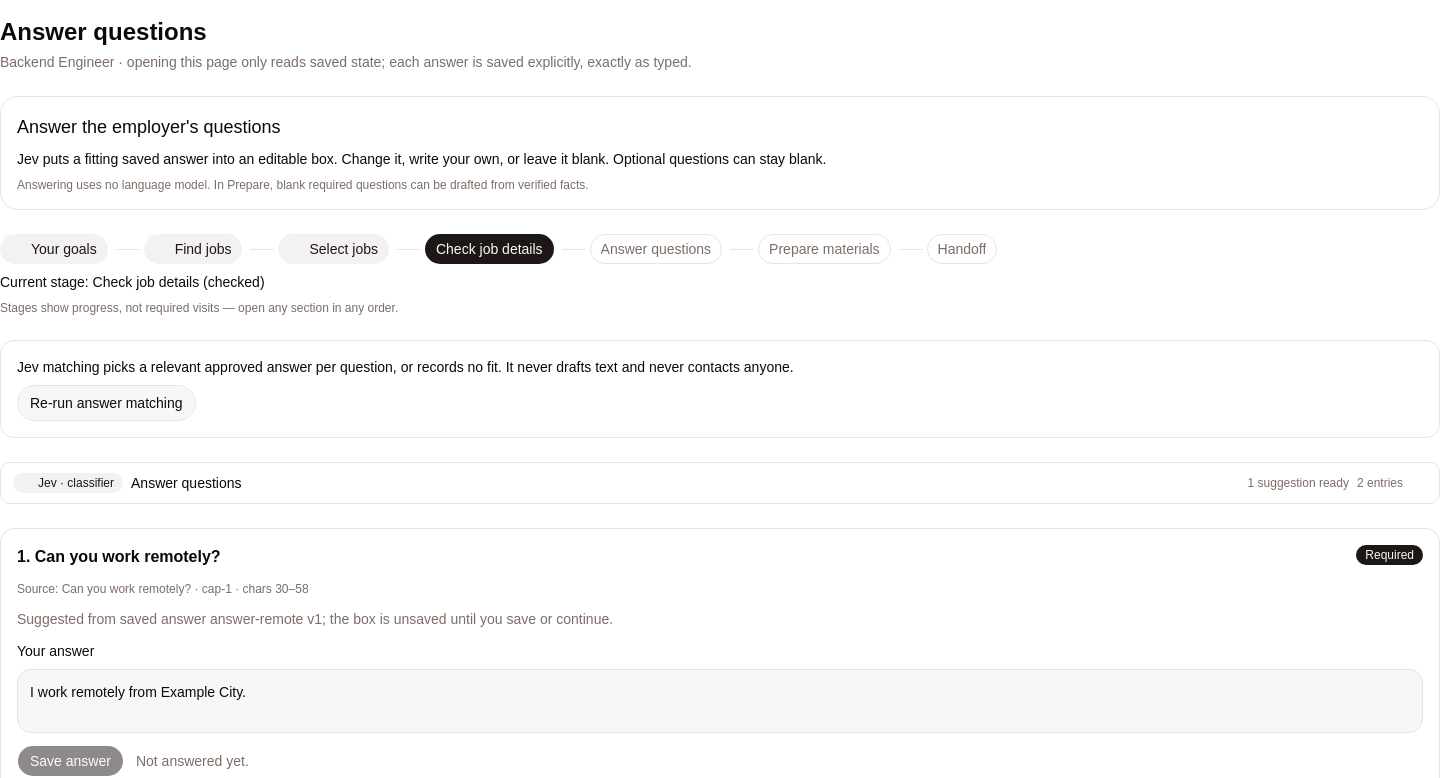
answers page saves › saves a required blank with an explicit draft request
Clear the text box showing "I work remotely from Example City.": coordinates (720, 701) [17,669,1423,733]
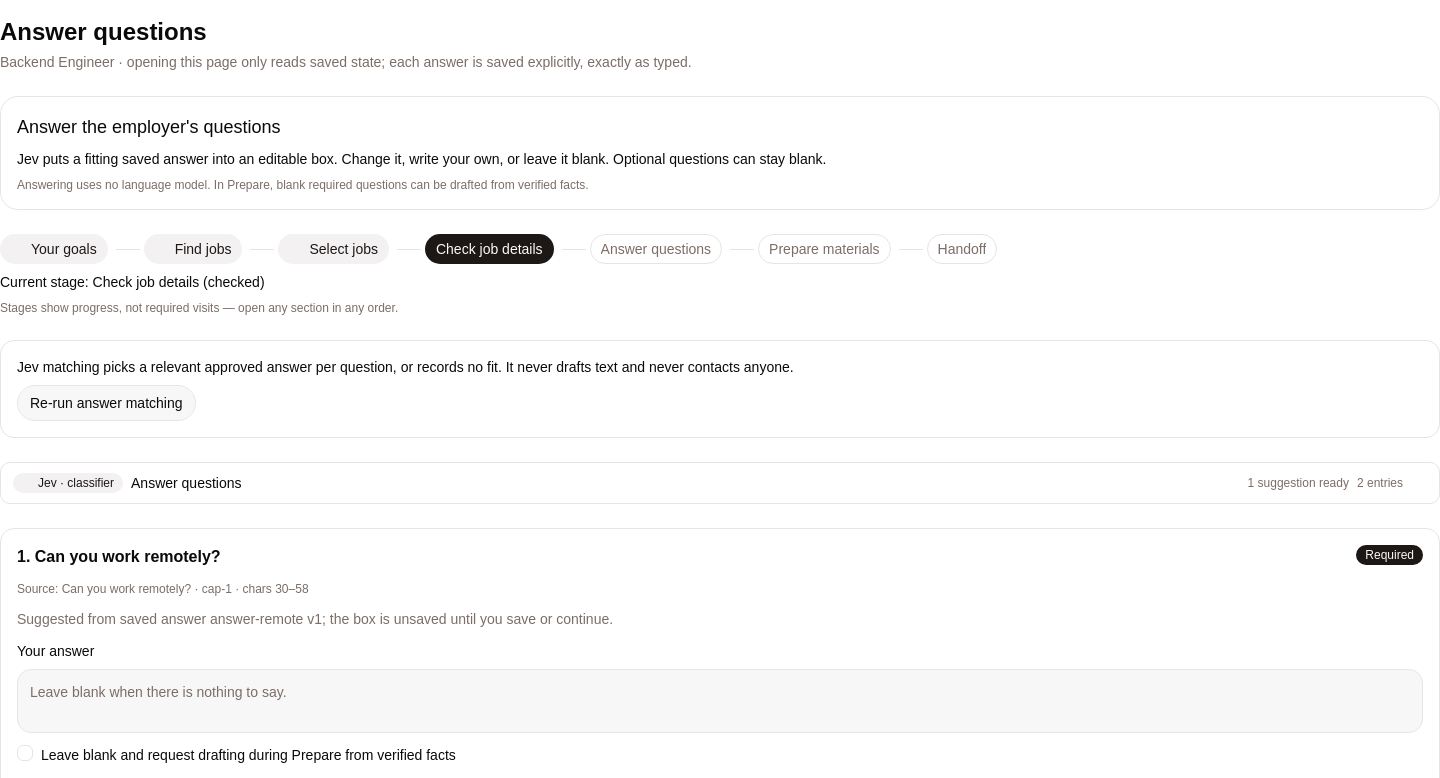
Click the checkbox named "Leave blank and request drafting during Prepare from verified facts": coordinates (25, 753) [17,745,33,761]
(page scrolled)
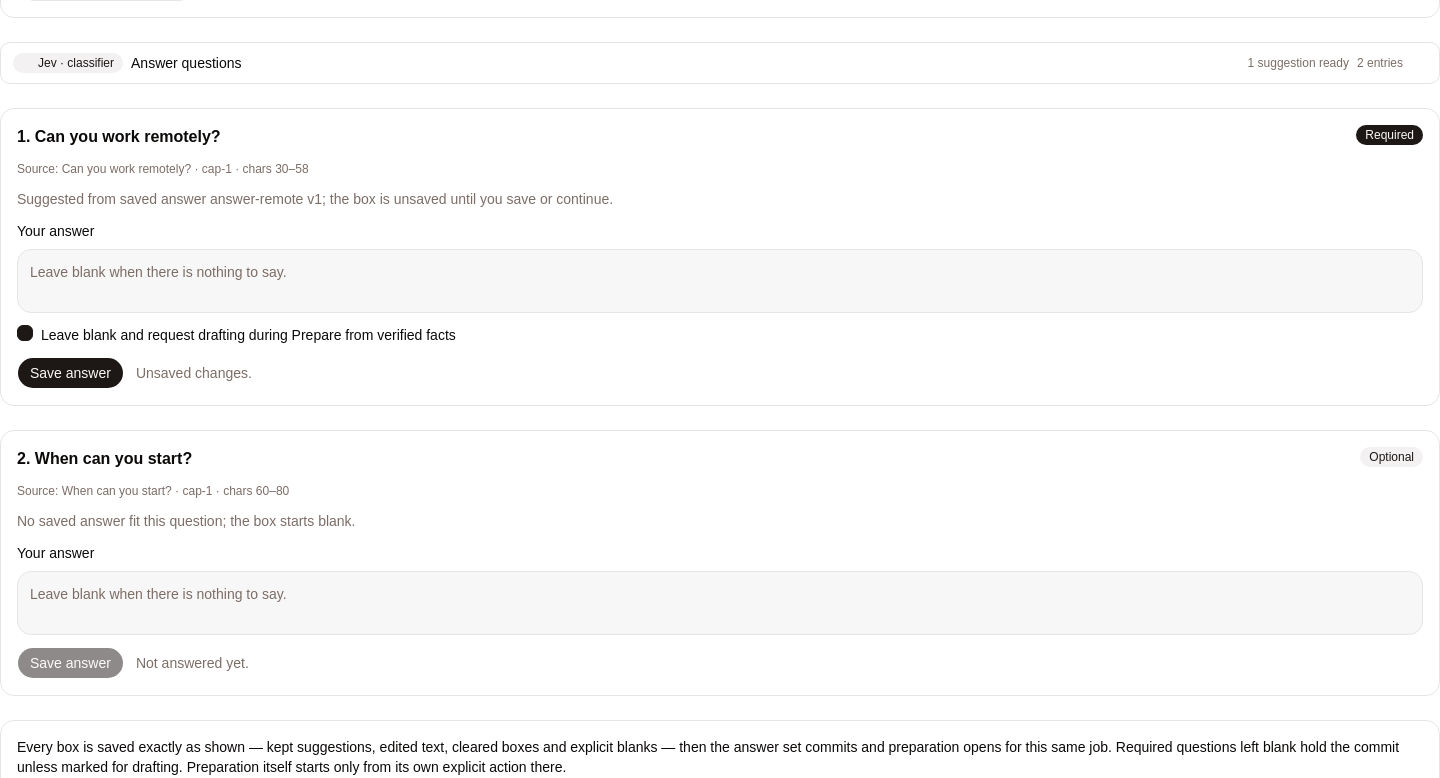
Click the button "Save answer" next to "Unsaved changes.": coordinates (70, 373) [17,357,124,389]
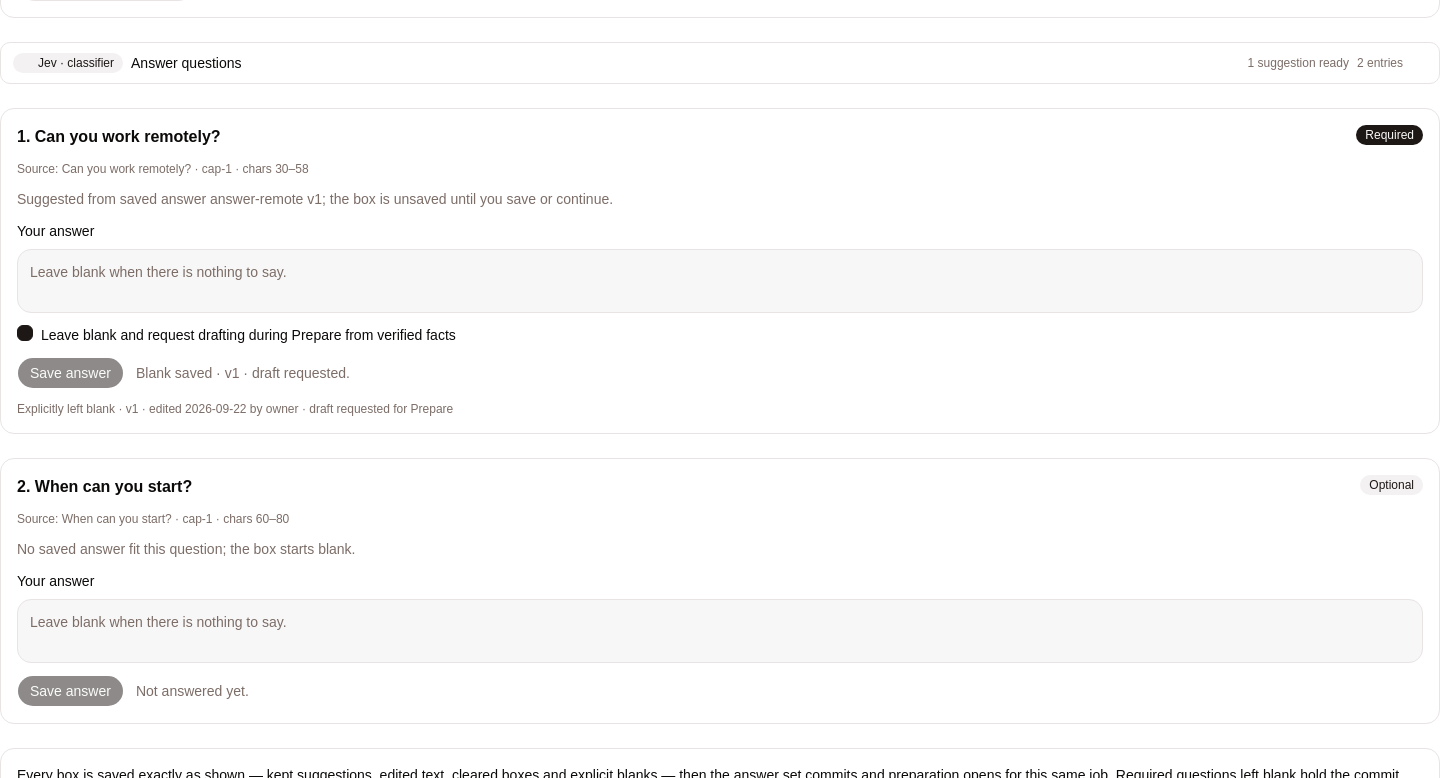
Expected: the text "Blank saved · v1 · draft requested." is shown, [136,363,350,383]
Expected: the text "draft requested for Prepare" is shown, [298,402,453,416]
